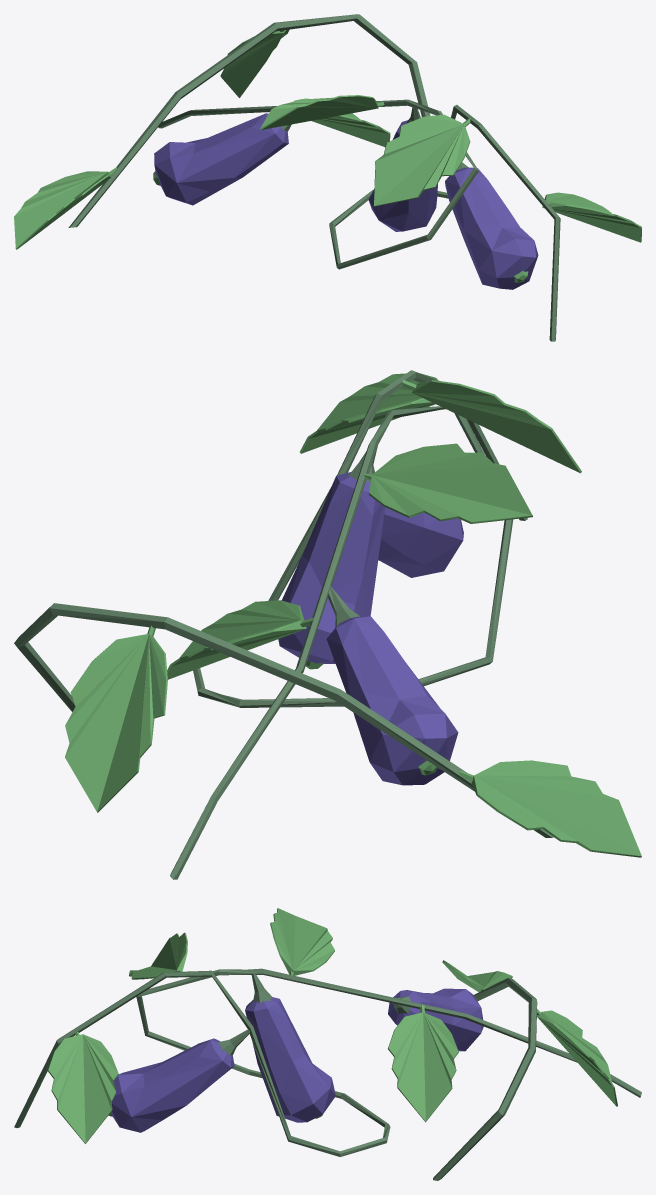
Rendered from eggplant.fbx.
3 renders of one model, top to bottom at view 1: azimuth 30°, elevation 25°; view 2: azimuth 150°, elevation 25°; view 3: azimuth 270°, elevation 25°, orthographic. The views are drawn at different scales.
Visible parts, largest first — view 1: eggplant; view 2: eggplant; view 3: eggplant.
Boxes of the visible parts, x1,y1,x2,y2 form: eggplant: (14,14,641,341); eggplant: (14,370,641,879); eggplant: (14,908,641,1180).
Bounding box in the file's own units: 106 × 40.95 × 137.
